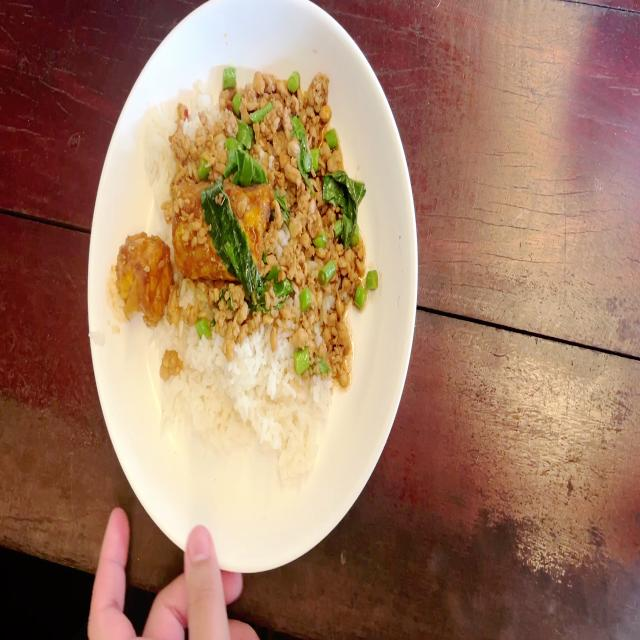fried_tofo: (168, 182, 269, 280), (116, 230, 173, 322)
minced_pork: (175, 63, 358, 181), (271, 178, 360, 372), (162, 279, 279, 341)
rice: (148, 334, 318, 467)
stir_fried_basil: (112, 63, 377, 479)
